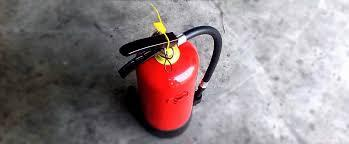floor-kept: (111, 26, 226, 140)
